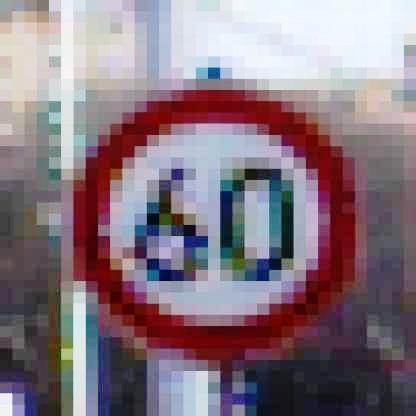Speed Limit -60-: (69, 89, 358, 356)
